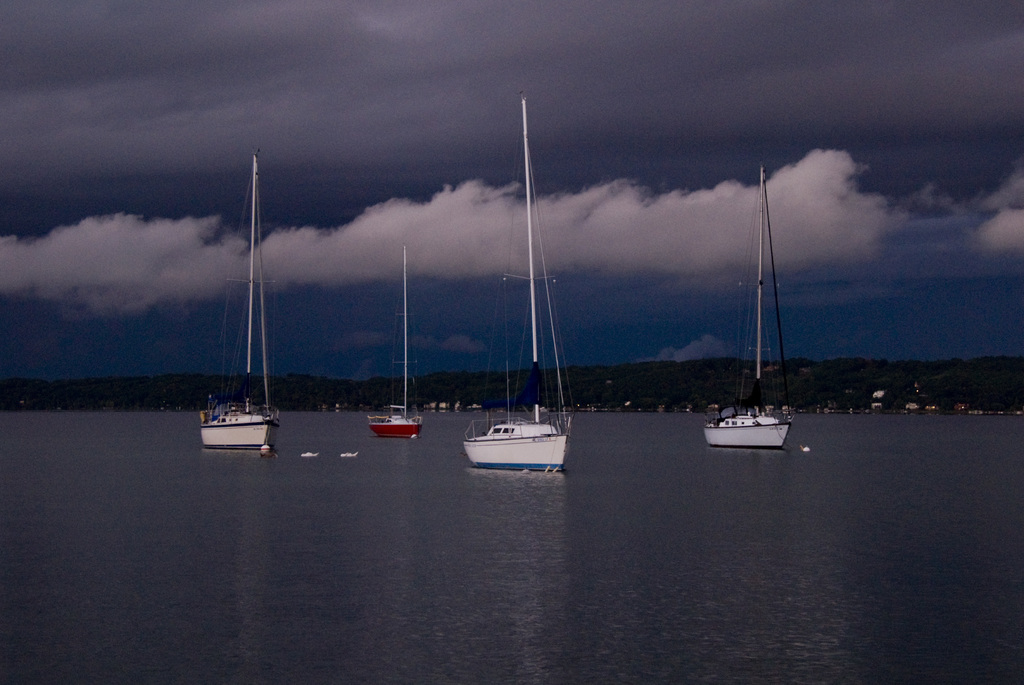boat: (443, 78, 581, 486), (687, 140, 822, 479), (167, 126, 292, 471), (362, 220, 430, 454)
